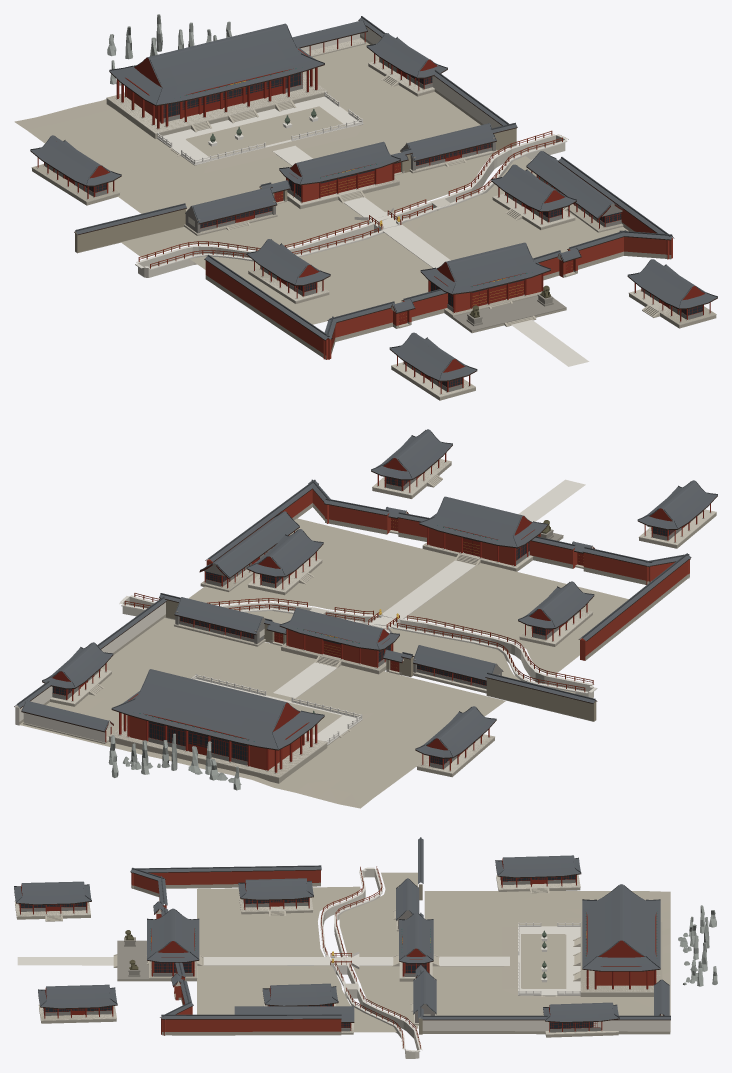
The picture shows the model from 3 angles, top to bottom: view 1: azimuth 30°, elevation 25°; view 2: azimuth 150°, elevation 25°; view 3: azimuth 270°, elevation 25°; orthographic projection. The views are drawn at different scales.
Parts seen in each view (by area): view 1: YM01 正大光明 Zhengda Guangming; view 2: YM01 正大光明 Zhengda Guangming; view 3: YM01 正大光明 Zhengda Guangming.
Boxes of the visible parts, x1=… form: YM01 正大光明 Zhengda Guangming: x1=14, y1=14, x2=717, y2=400; YM01 正大光明 Zhengda Guangming: x1=14, y1=429, x2=717, y2=808; YM01 正大光明 Zhengda Guangming: x1=14, y1=837, x2=717, y2=1058.
Bounding box in the file's own units: 110 × 15.19 × 167.
